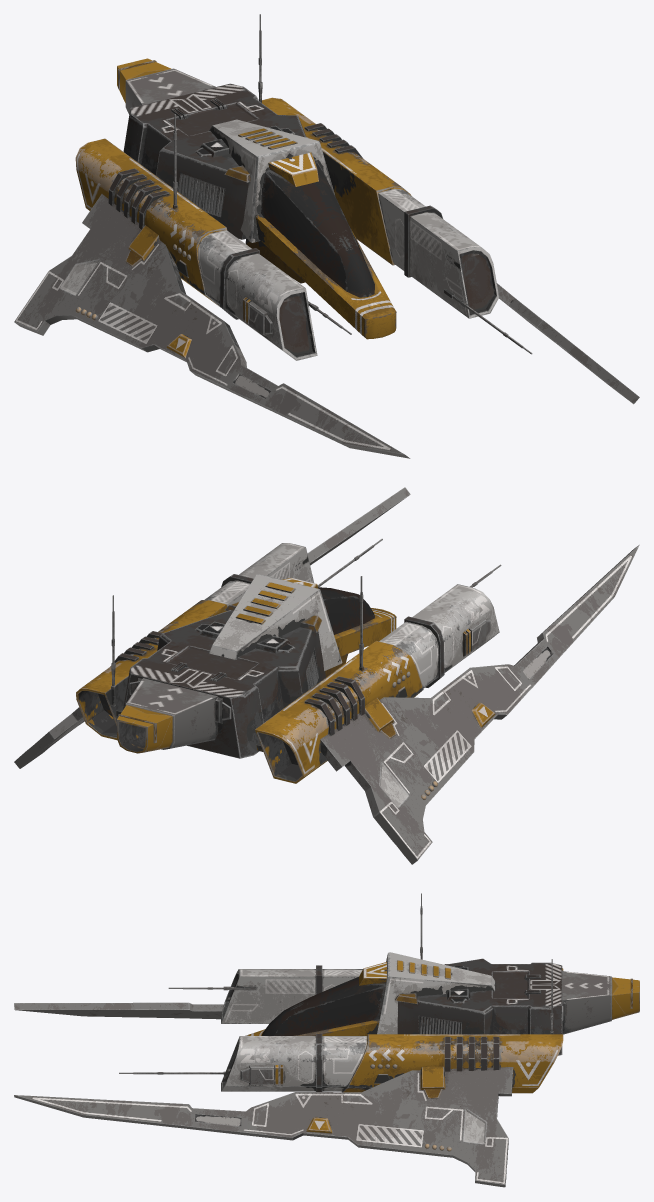
Rendered from qs_striker.glb.
The picture shows the model from 3 angles, top to bottom: view 1: azimuth 30°, elevation 25°; view 2: azimuth 150°, elevation 25°; view 3: azimuth 270°, elevation 25°; orthographic projection. The views are drawn at different scales.
Parts seen in each view (by area): view 1: Striker; view 2: Striker; view 3: Striker.
Part boxes in pixels (bbox=[...]): Striker: bbox=[14, 14, 639, 458]; Striker: bbox=[14, 487, 639, 864]; Striker: bbox=[14, 893, 639, 1187].
Size of the model in its own units: 5.03 by 2.68 by 8.43.
Materials: 1 (1 with a texture image).
